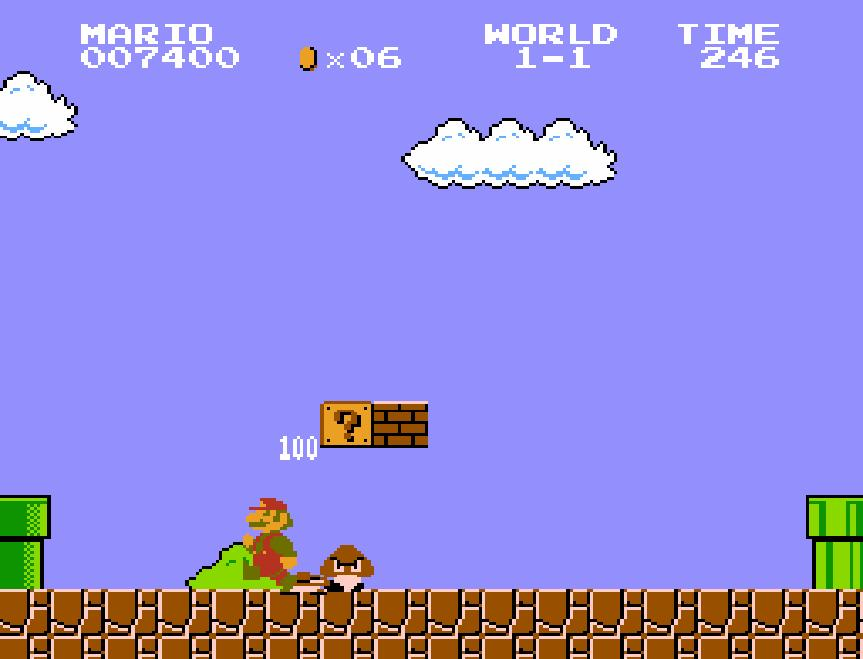big_mario: (240, 496, 298, 594)
